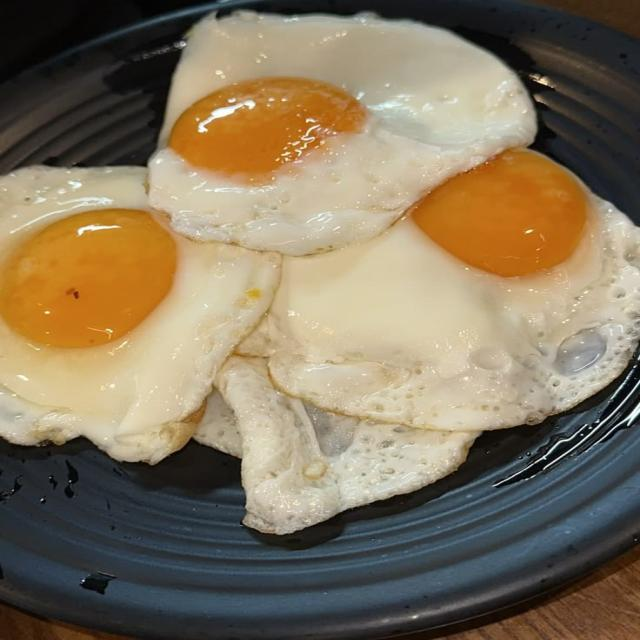fryed egg: (240, 151, 639, 429), (149, 12, 535, 255), (0, 167, 279, 463), (195, 356, 479, 534)
